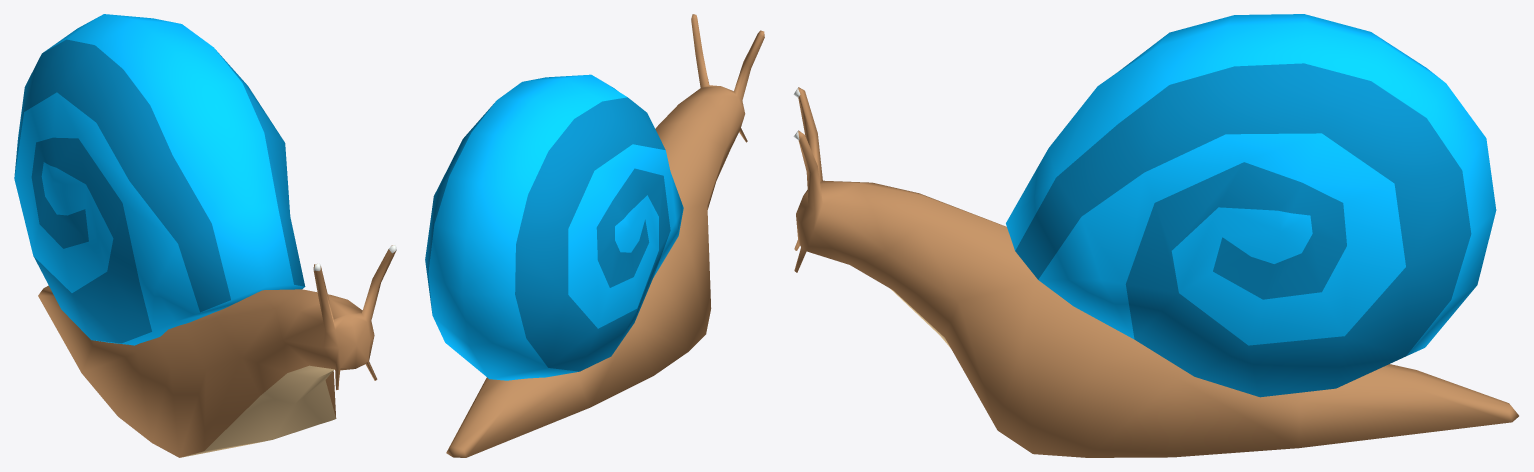
The model's file is Snail02.glb.
The picture shows the model from 3 angles, left to right: view 1: azimuth 30°, elevation 25°; view 2: azimuth 150°, elevation 25°; view 3: azimuth 270°, elevation 25°; orthographic projection. The views are drawn at different scales.
Visible parts, largest first — view 1: Snail02; view 2: Snail02; view 3: Snail02.
Boxes of the visible parts, x1,y1,x2,y2 form: Snail02: (14,14,396,457); Snail02: (425,14,764,457); Snail02: (793,14,1518,457).
Size of what is drawn, in the model's own units: 0.163 by 0.2711 by 0.4546.
Materials: 1 (1 with a texture image).
